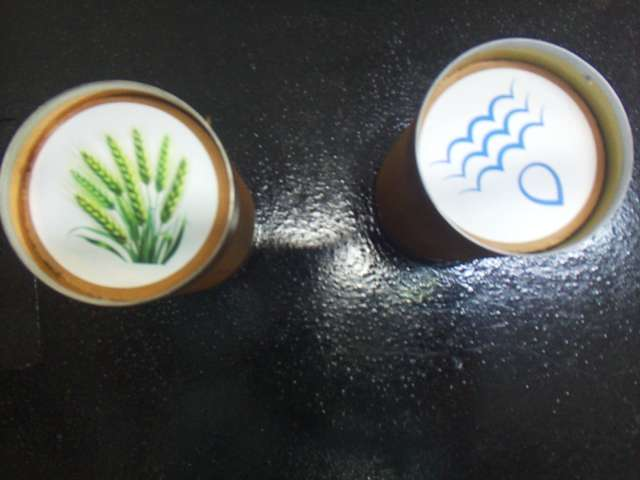water_barrel: (423, 61, 572, 232)
wheat_barrel: (59, 108, 202, 278)
